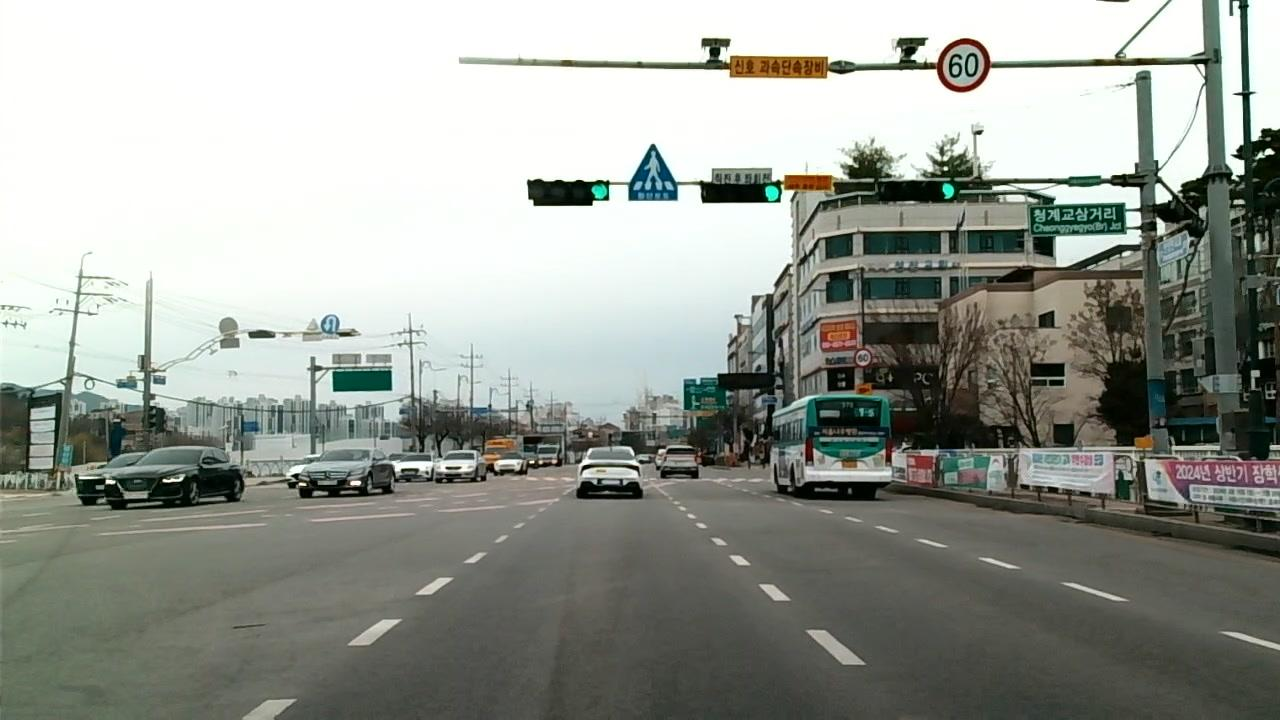banner: (1141, 453, 1280, 511), (1017, 447, 1117, 496), (934, 454, 1009, 488), (889, 451, 936, 488)
